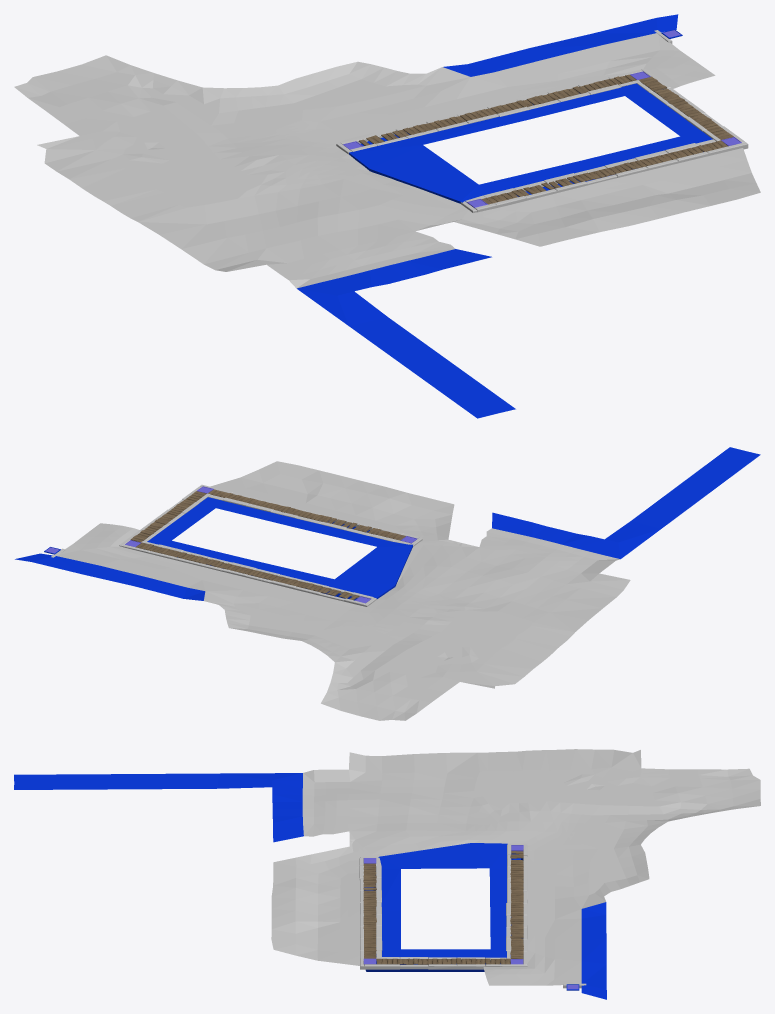
File: SM_ENV_KNVLLG_ground_11.mo.fbx
The picture shows the model from 3 angles, top to bottom: view 1: azimuth 30°, elevation 25°; view 2: azimuth 150°, elevation 25°; view 3: azimuth 270°, elevation 25°; orthographic projection. The views are drawn at different scales.
Parts seen in each view (by area): view 1: SM_ENV_KNVLLG_ground_11.mo; view 2: SM_ENV_KNVLLG_ground_11.mo; view 3: SM_ENV_KNVLLG_ground_11.mo.
Part boxes in pixels (x1,y1,x2,y2): SM_ENV_KNVLLG_ground_11.mo: (14,14,760,418); SM_ENV_KNVLLG_ground_11.mo: (15,447,760,720); SM_ENV_KNVLLG_ground_11.mo: (14,749,760,999).
Size of the model in its own units: 46.44 by 1.12 by 58.84.
